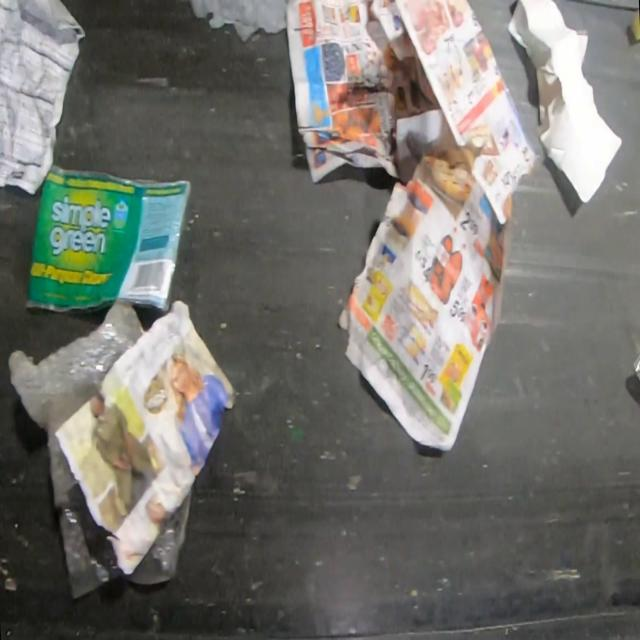soft_plastic: (8, 305, 196, 601), (23, 162, 193, 317), (632, 349, 640, 383)
